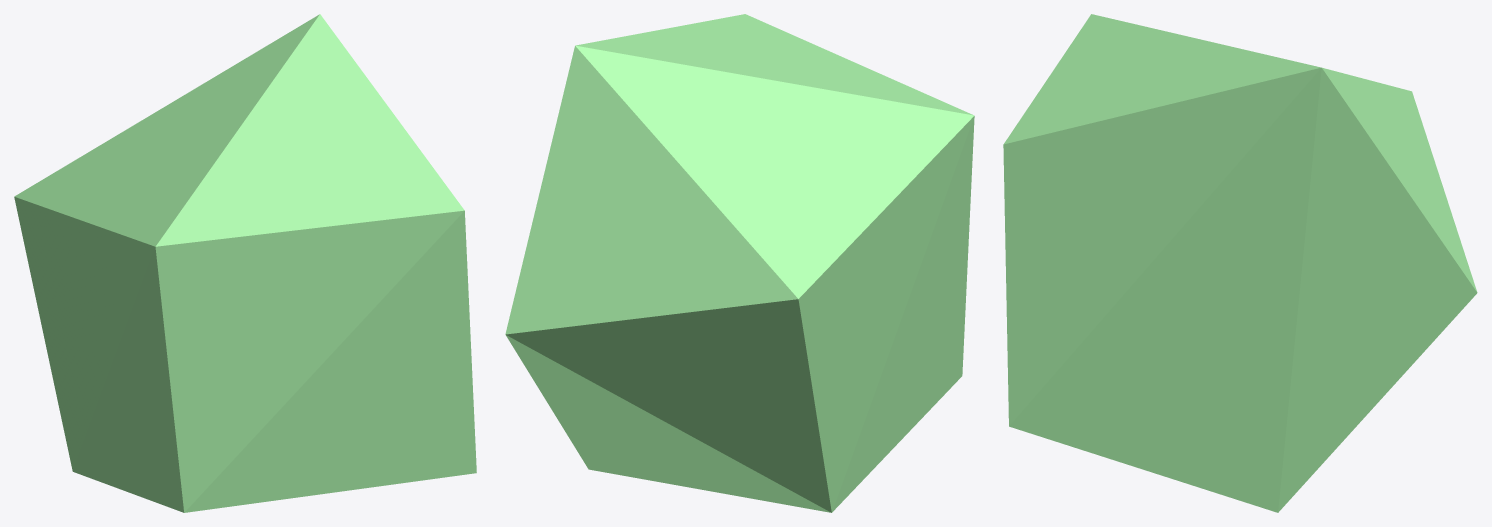
File: linkhou_LR4_R560_link5_respondable_coll_12.dae
3 renders of one model, left to right at view 1: azimuth 30°, elevation 25°; view 2: azimuth 150°, elevation 25°; view 3: azimuth 270°, elevation 25°, orthographic. The views are drawn at different scales.
Parts seen in each view (by area): view 1: Node_00000209DB3AB530; view 2: Node_00000209DB3AB530; view 3: Node_00000209DB3AB530.
Part boxes in pixels (left/top/right/bottom): Node_00000209DB3AB530: left=14, top=14, right=476, bottom=512; Node_00000209DB3AB530: left=505, top=14, right=974, bottom=512; Node_00000209DB3AB530: left=1003, top=14, right=1477, bottom=512.
Bounding box in the file's own units: 0.011 × 0.0159 × 0.0155.
